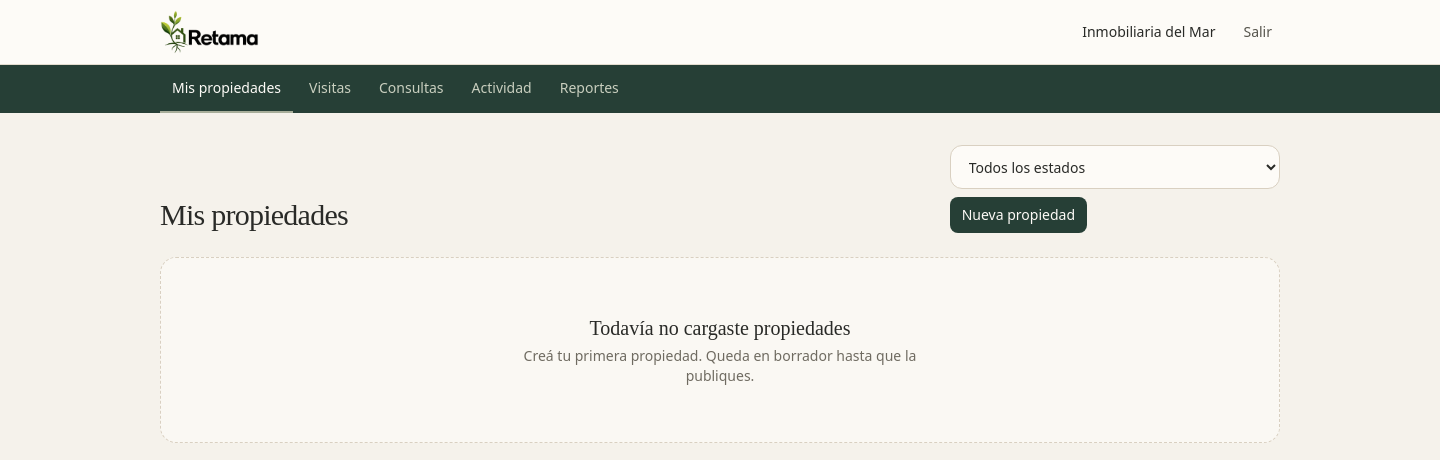
Test case: mis propiedades: listado › filtra por estado y guarda el filtro en la url
Step 1. Select "Pausada" in the dropdown named "Filtrar por estado" → (1115, 167), box [950,145,1280,189]
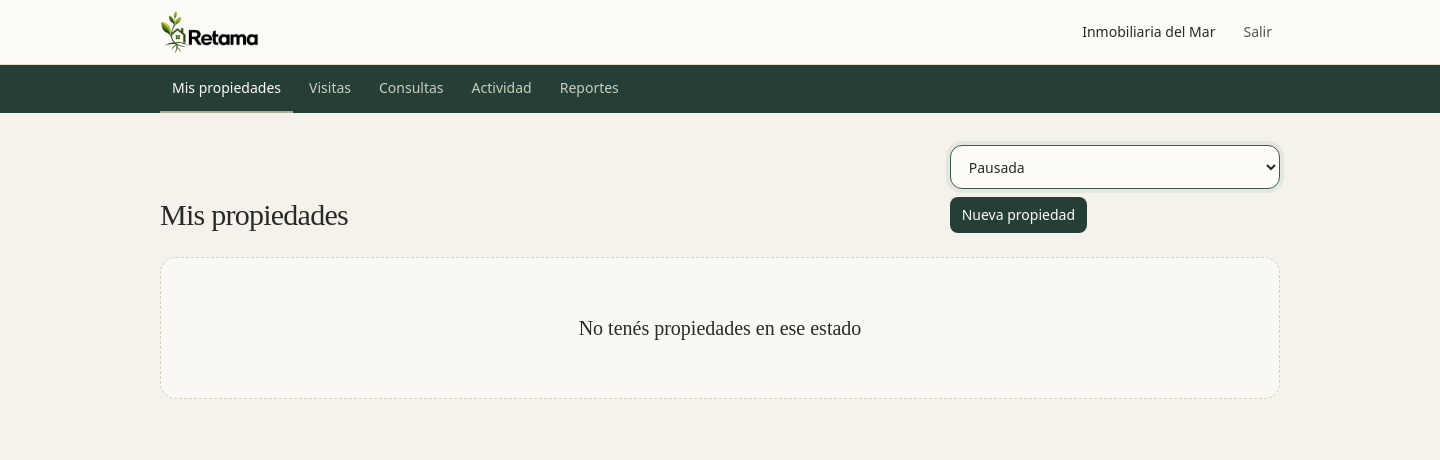
Expected: the text "No tenés propiedades en ese estado" is shown, [579,317,861,339]
